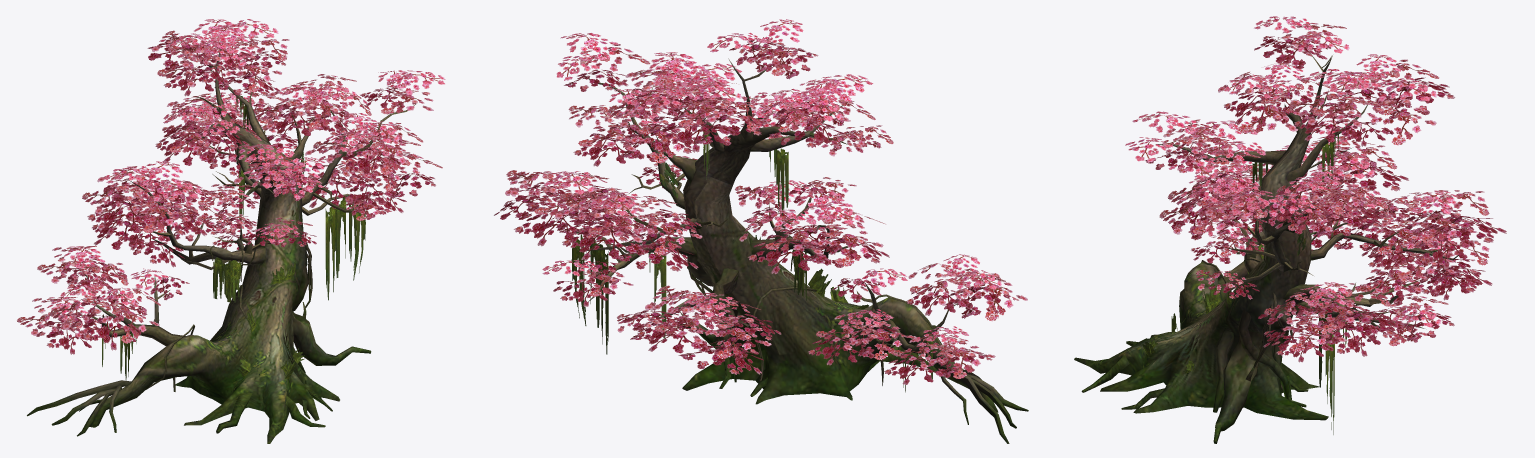
The model's file is S_Tree_Green133_A2.FBX.
3 views of the same model, side by side, from view 1: azimuth 30°, elevation 25°; view 2: azimuth 150°, elevation 25°; view 3: azimuth 270°, elevation 25° (orthographic). The views are drawn at different scales.
Parts seen in each view (by area): view 1: S_Tree_Green133_A2; view 2: S_Tree_Green133_A2; view 3: S_Tree_Green133_A2.
Boxes of the visible parts, x1,y1,x2,y2 form: S_Tree_Green133_A2: (17, 19, 445, 443); S_Tree_Green133_A2: (494, 19, 1028, 443); S_Tree_Green133_A2: (1074, 16, 1506, 443).
Bounding box in the file's own units: 414 × 300 × 330.
